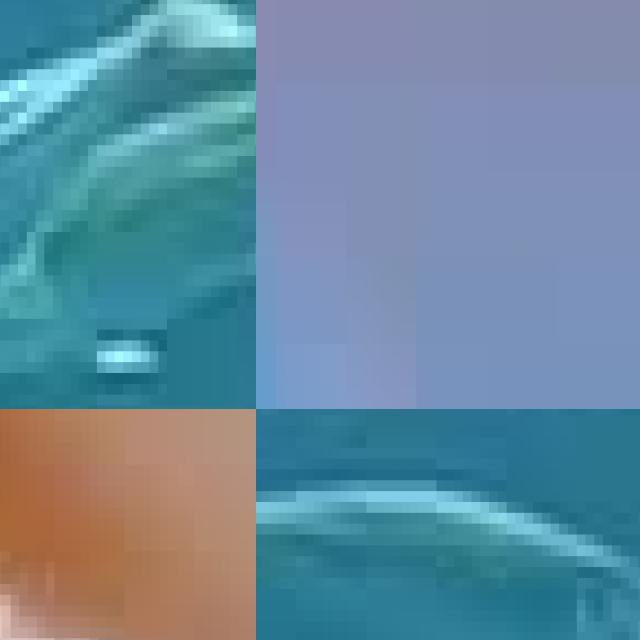fish: (0, 0, 256, 409), (0, 409, 256, 640)
